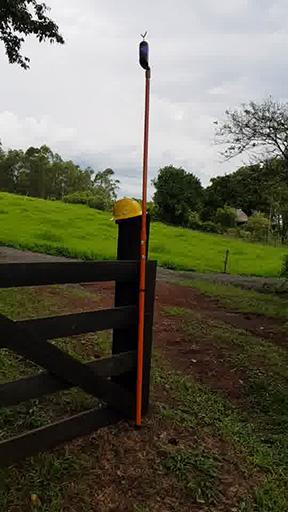Detector_Tensao_Contato: (138, 29, 151, 68)
Vara_Manobra: (132, 69, 152, 425)
